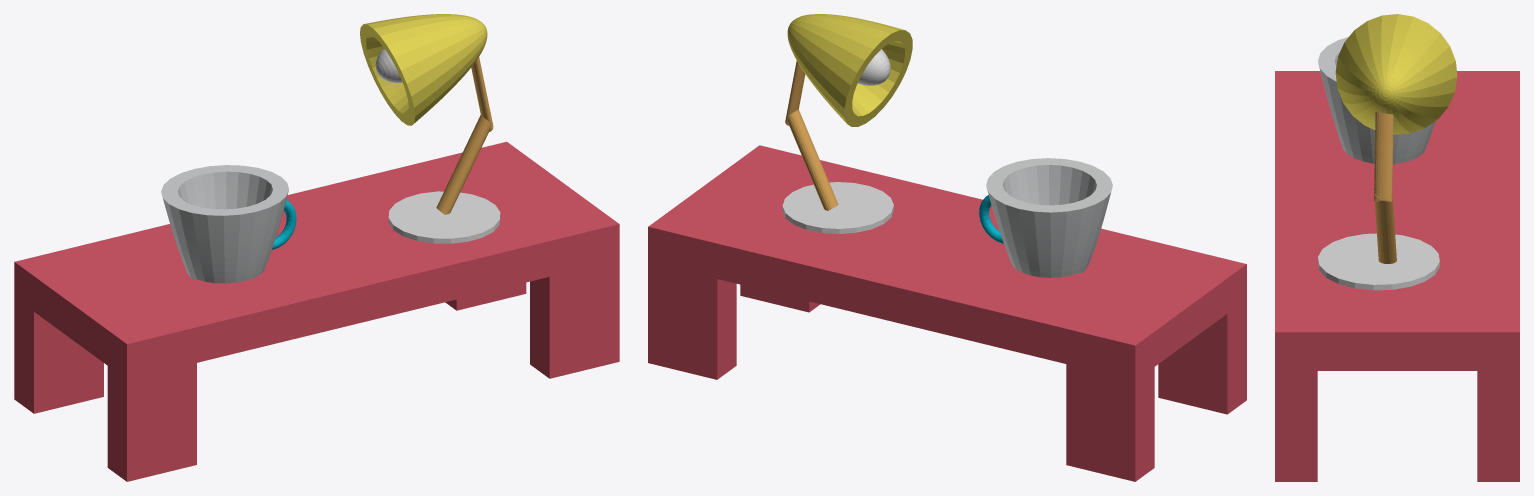
Rendered from Table With Coffee and Lamp.glb.
3 renders of one model, left to right at view 1: azimuth 30°, elevation 25°; view 2: azimuth 150°, elevation 25°; view 3: azimuth 270°, elevation 25°, orthographic. The views are drawn at different scales.
Parts seen in each view (by area): view 1: Mesh_Mesh_head_geo.001_lambert2SG.001; view 2: Mesh_Mesh_head_geo.001_lambert2SG.001; view 3: Mesh_Mesh_head_geo.001_lambert2SG.001.
Boxes of the visible parts, left/top/right/bottom form: Mesh_Mesh_head_geo.001_lambert2SG.001: left=14, top=14, right=619, bottom=481; Mesh_Mesh_head_geo.001_lambert2SG.001: left=648, top=14, right=1246, bottom=481; Mesh_Mesh_head_geo.001_lambert2SG.001: left=1275, top=14, right=1519, bottom=481.
Size of the model in its own units: 101 by 66.32 by 40.
